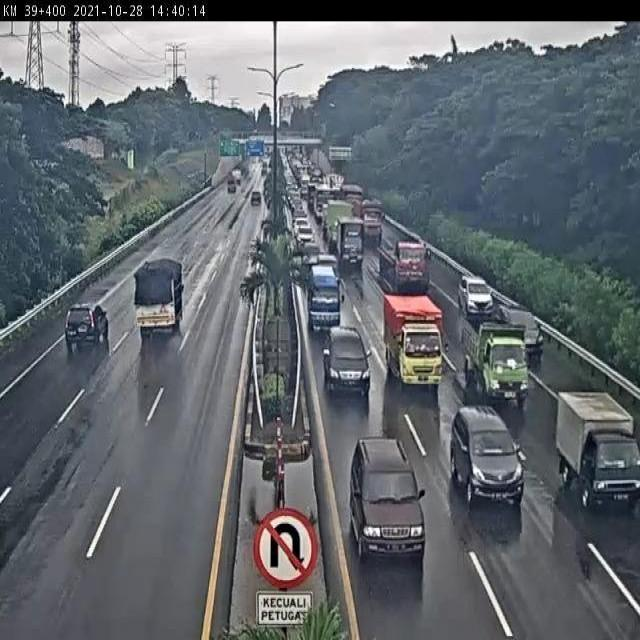bus-s-: (306, 261, 341, 328)
car: (351, 433, 428, 560), (450, 407, 523, 505), (323, 319, 372, 393), (496, 300, 544, 356), (67, 300, 109, 348), (456, 271, 493, 313), (315, 252, 340, 277), (301, 240, 322, 268)
small truck: (135, 256, 184, 336)
truck-m-: (461, 308, 530, 404), (381, 287, 446, 388), (335, 217, 364, 267)
truck-s-: (558, 388, 640, 507)
truck-xl-: (376, 236, 434, 289)
